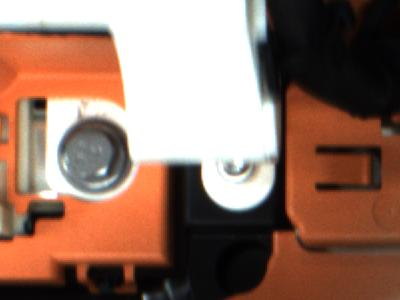nut_b: (56, 117, 133, 201)
